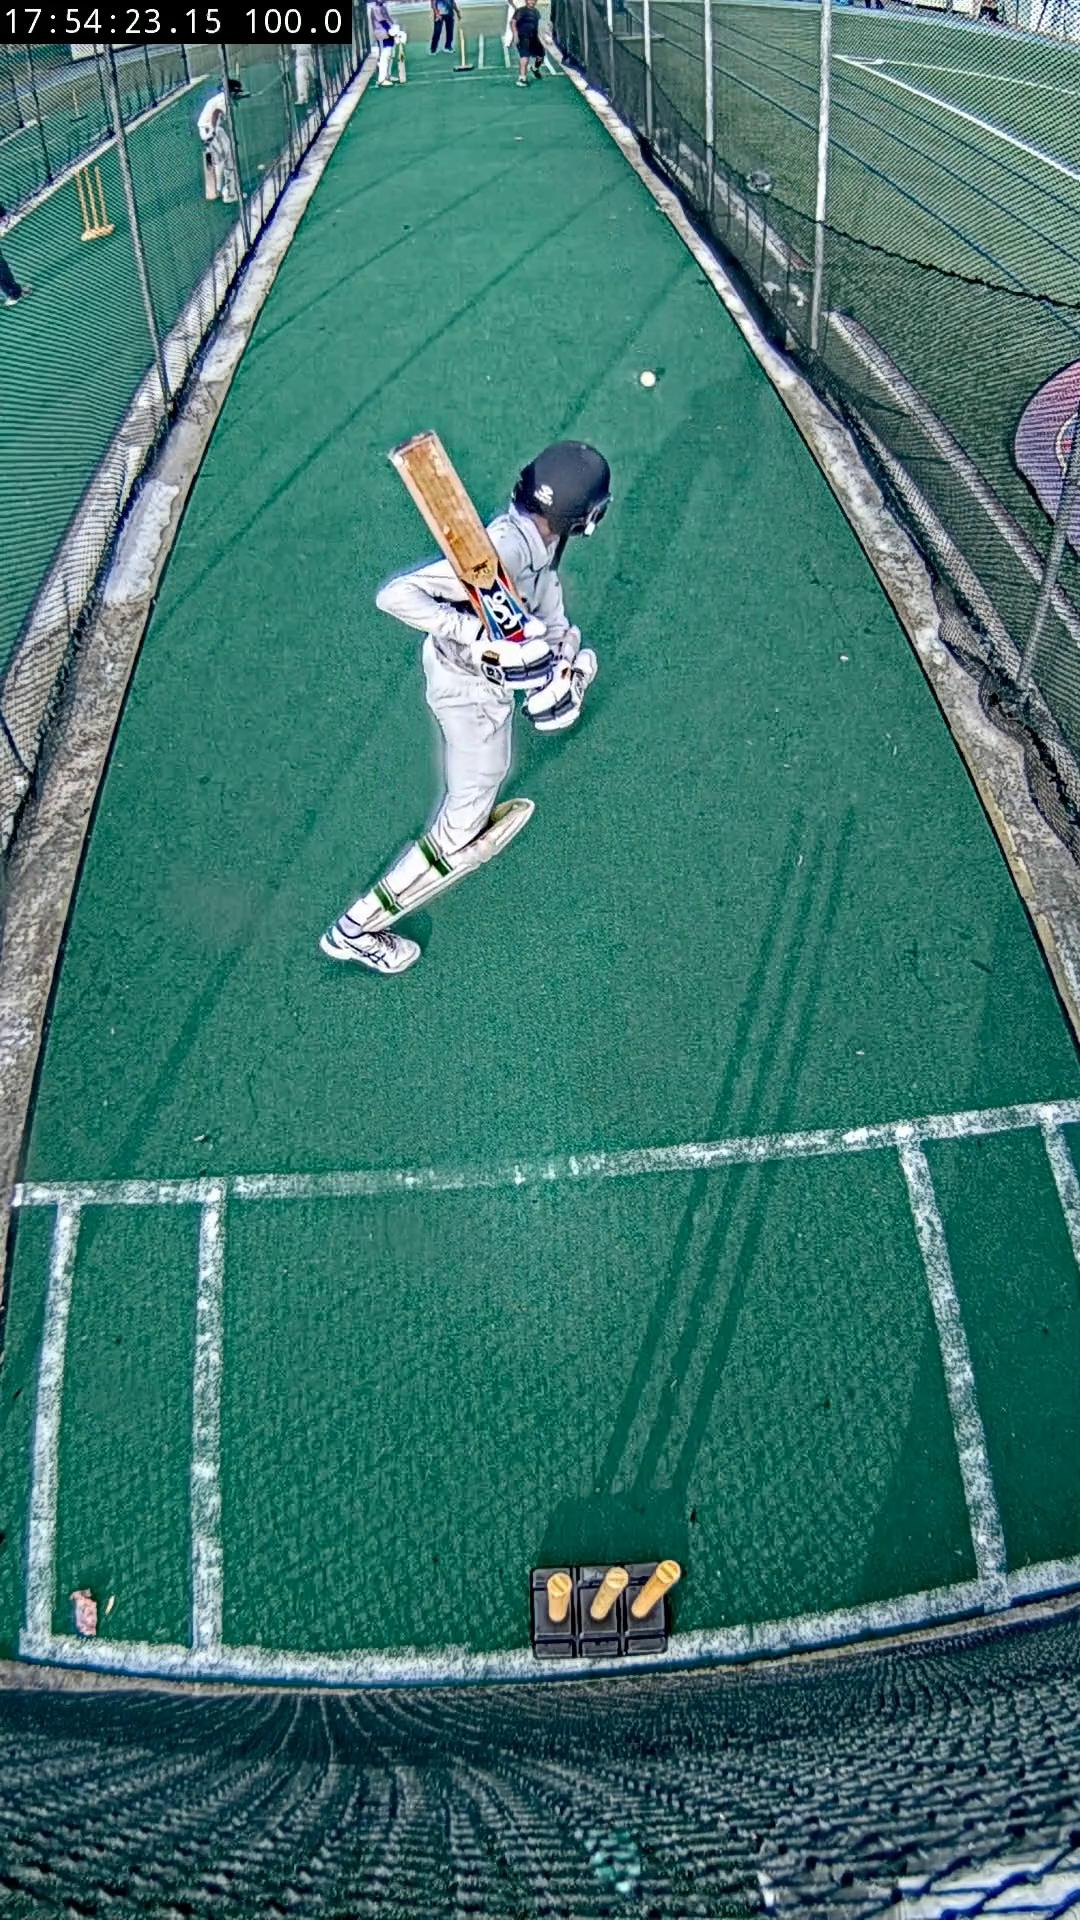ball: (637, 372, 657, 390)
bat: (390, 431, 529, 637)
gloves: (472, 634, 578, 729)
helmet: (514, 443, 612, 564)
pads: (364, 799, 537, 928)
stumps: (529, 1560, 683, 1662)
